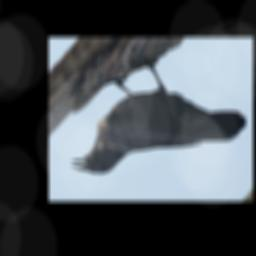Crow: (68, 59, 247, 175)
